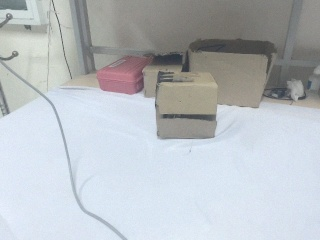box: (185, 37, 277, 109), (153, 69, 219, 140), (99, 47, 145, 95), (144, 53, 182, 96)
